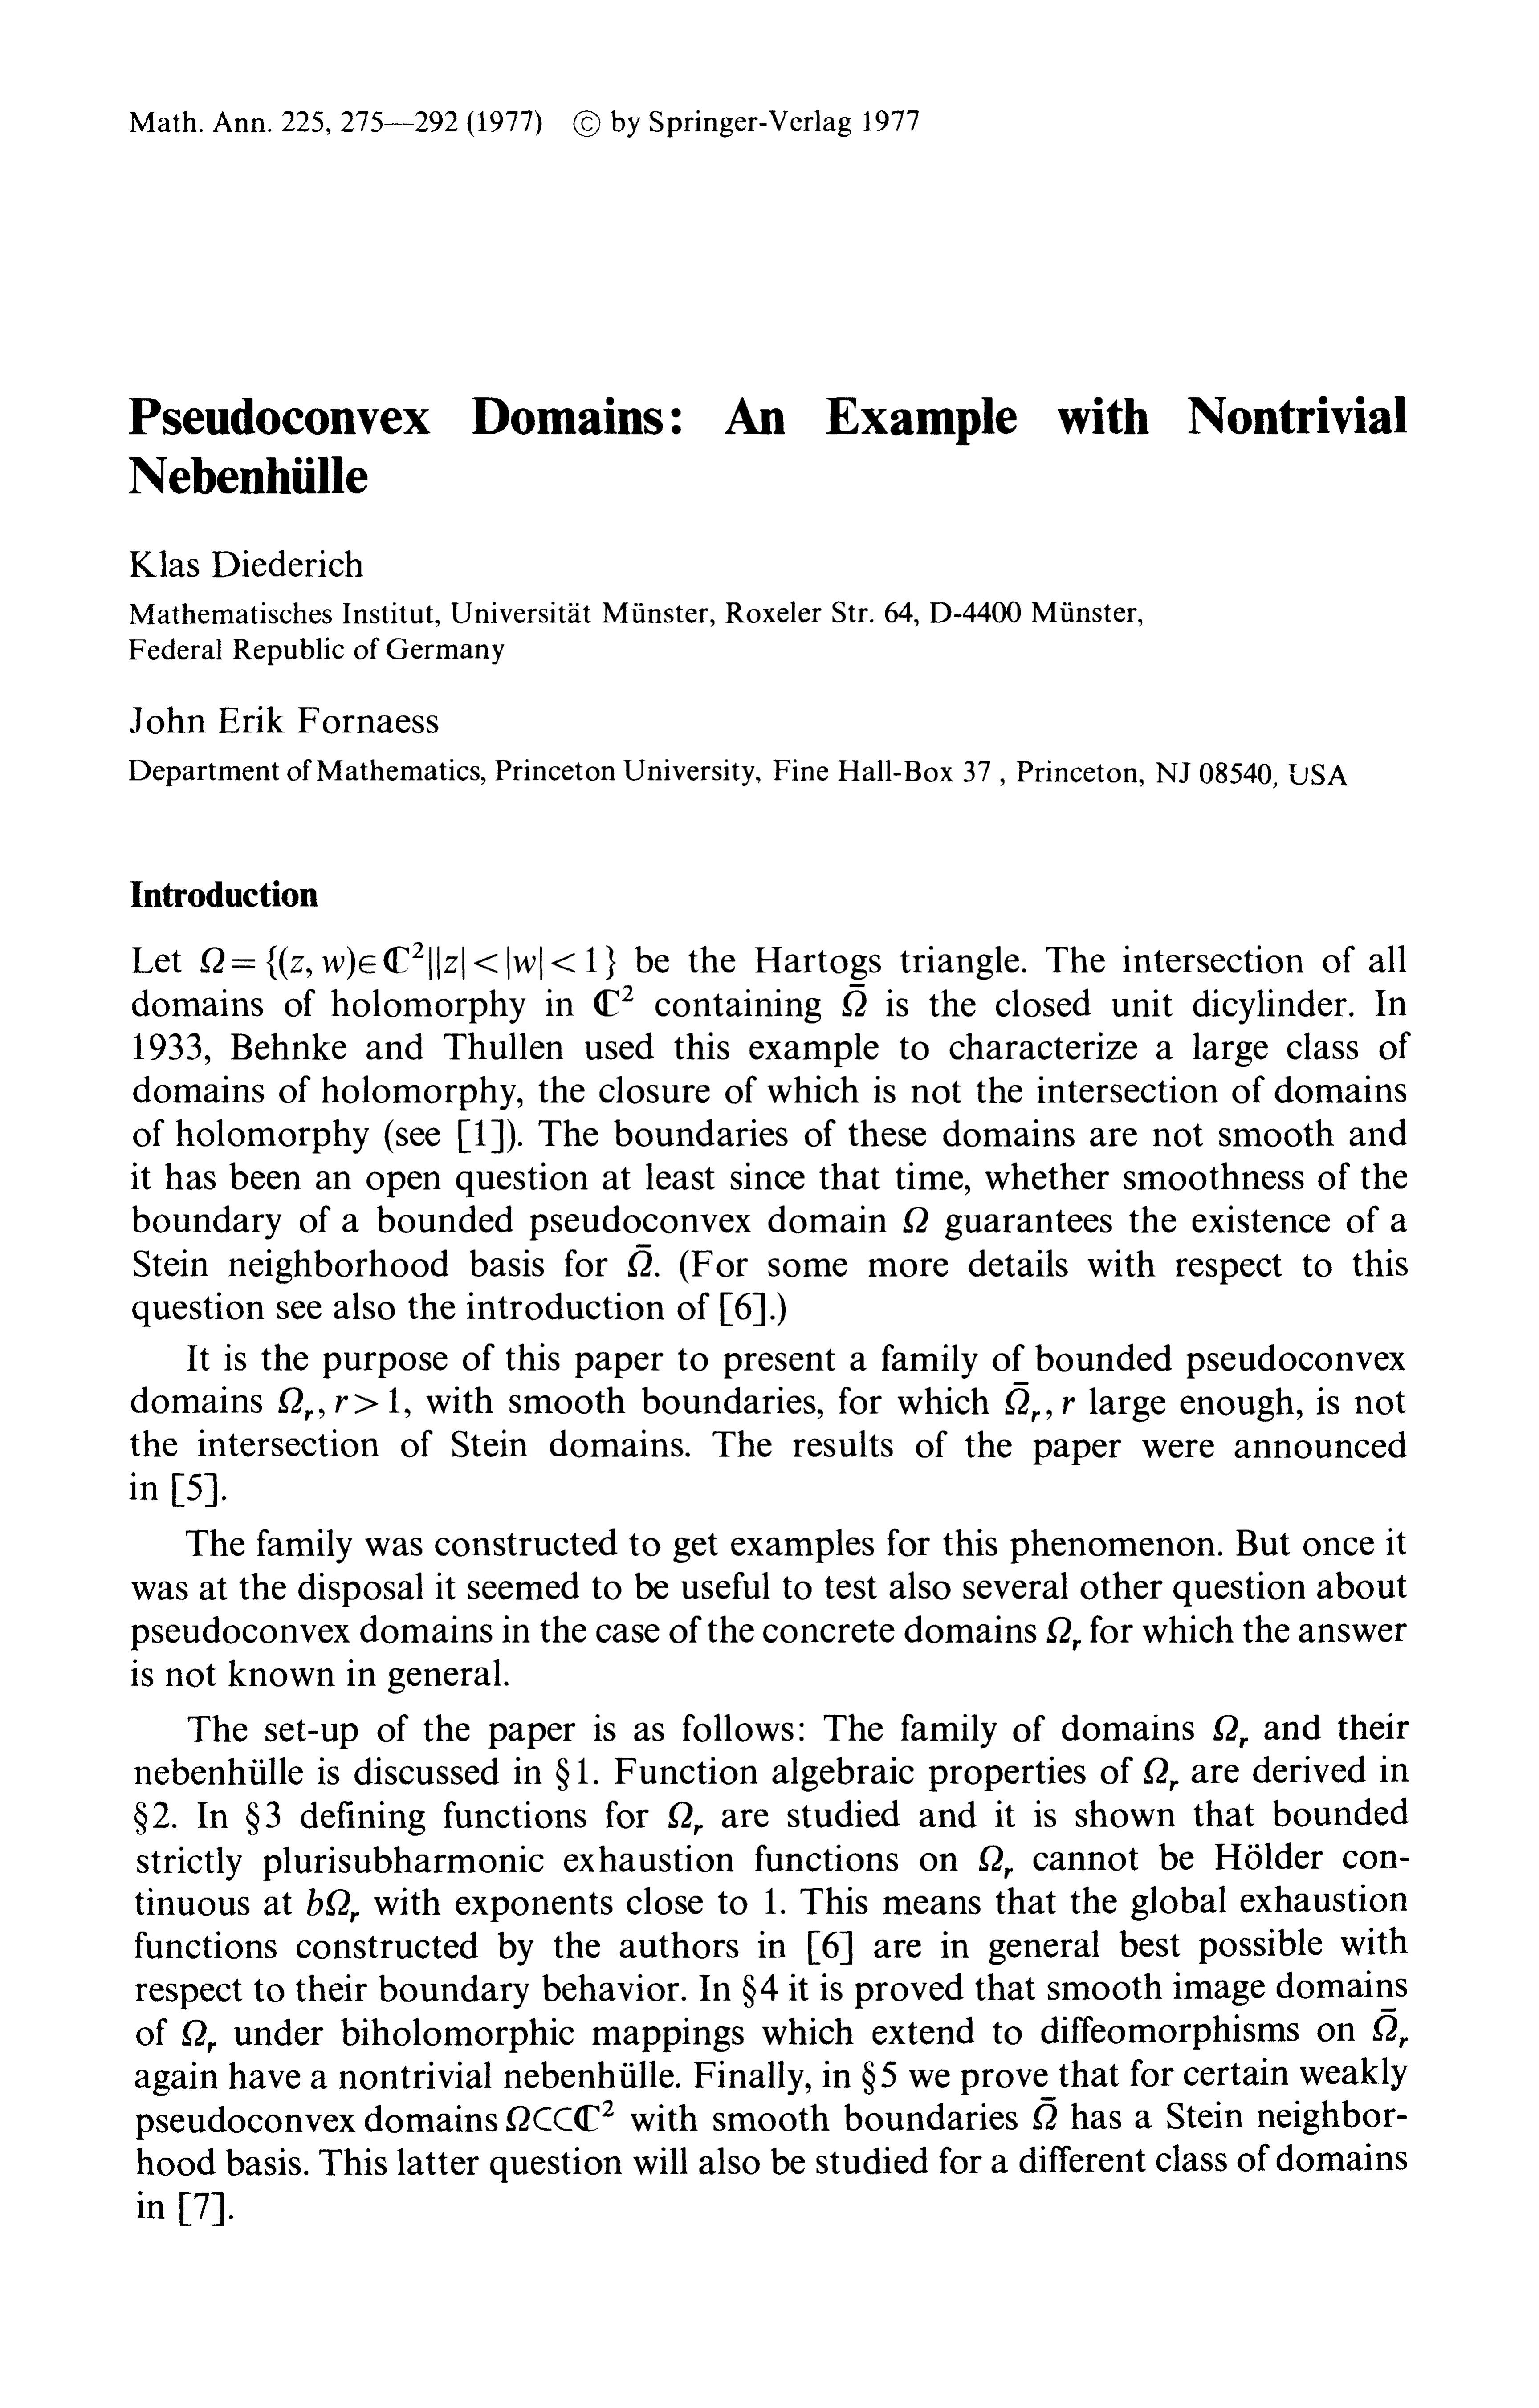maths: (200, 942, 614, 979), (505, 2099, 612, 2131), (1006, 1381, 1074, 1422), (307, 1888, 358, 1922), (335, 1387, 398, 1413), (593, 985, 633, 1016), (1372, 2015, 1407, 2048), (1048, 1616, 1081, 1650), (1214, 1715, 1248, 1748), (1144, 1757, 1178, 1790), (669, 1801, 702, 1834), (979, 1845, 1013, 1878), (183, 2020, 216, 2053), (279, 1388, 312, 1420), (842, 983, 867, 1016), (628, 1244, 651, 1276), (904, 1208, 928, 1232), (1034, 2104, 1056, 2129)
